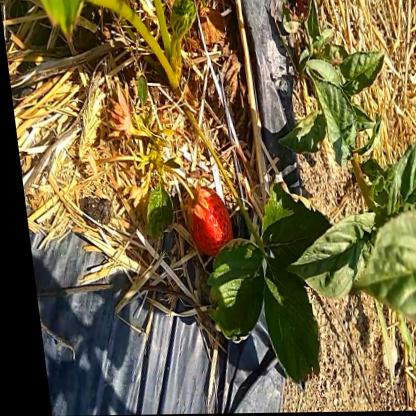ripe: (177, 184, 234, 264)
